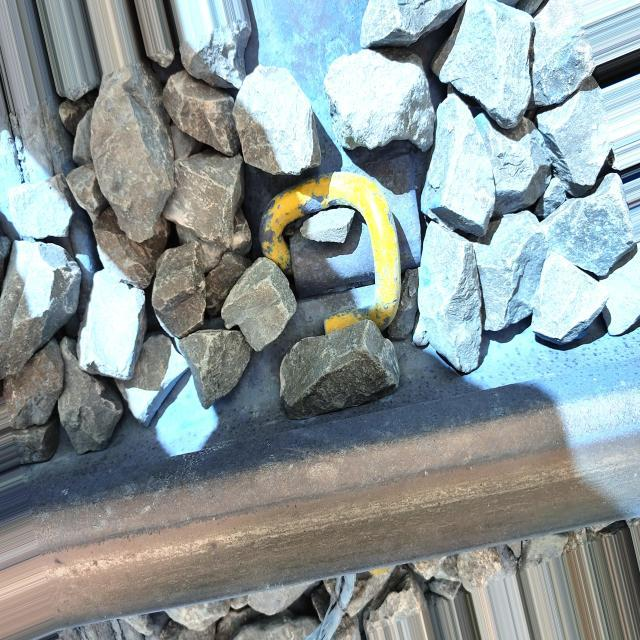Good Fasteners: (260, 172, 420, 329), (293, 260, 369, 296)
